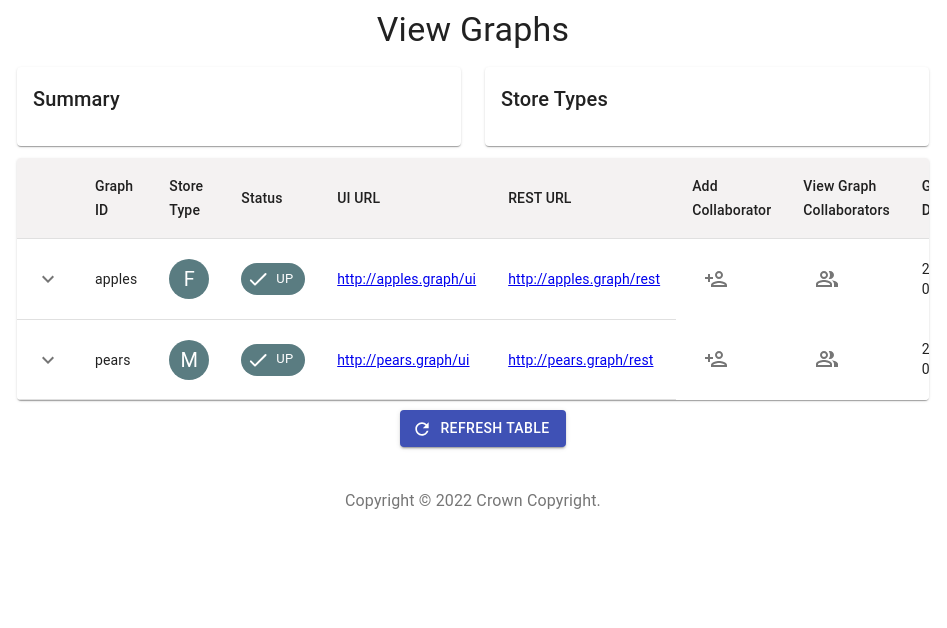
Test: Integration with GetAllGraphIds repo › should not display any graph ids when GetAllGraphIds returns and empty array
Click the button with id "expand-row-button-0": (48, 279) [33,264,63,294]
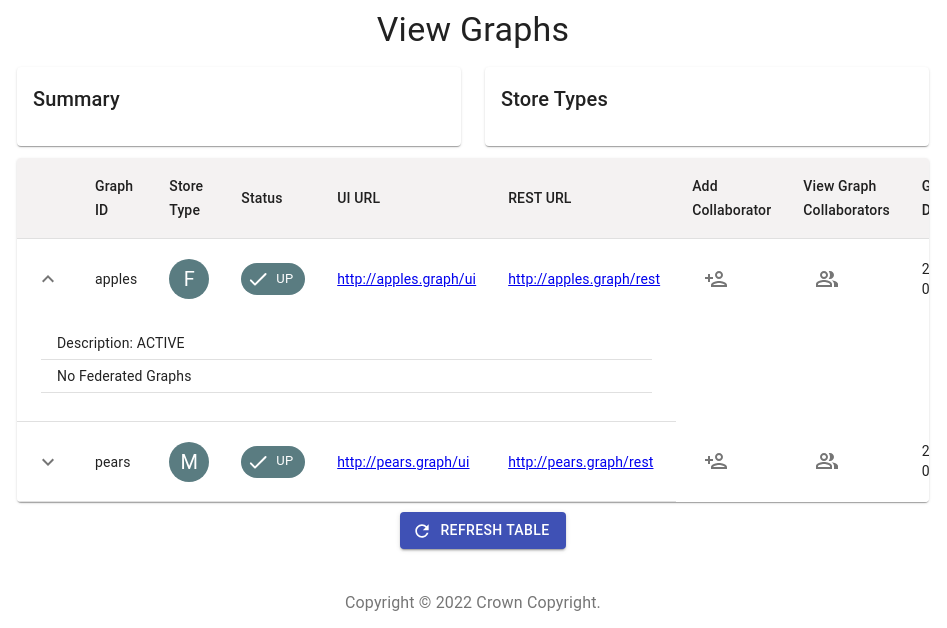
Expected: the row with id "federated-graph-ids-0" reads "No Federated Graphs", [57,368,192,384]
